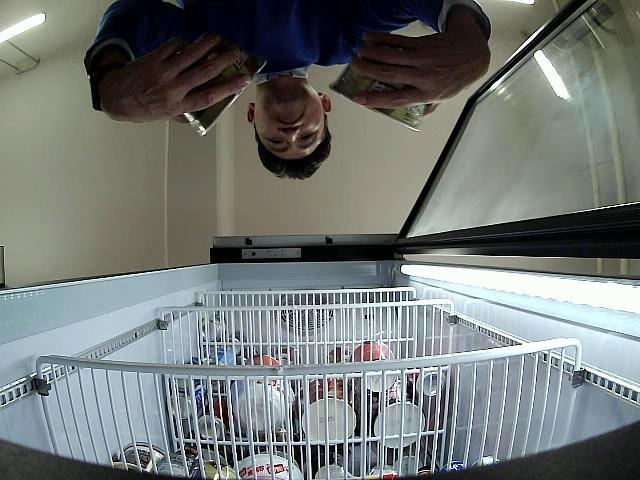00_hand: (103, 44, 250, 123), (351, 32, 490, 109)
03_chapagetti_L: (171, 38, 267, 136), (330, 67, 441, 132)
